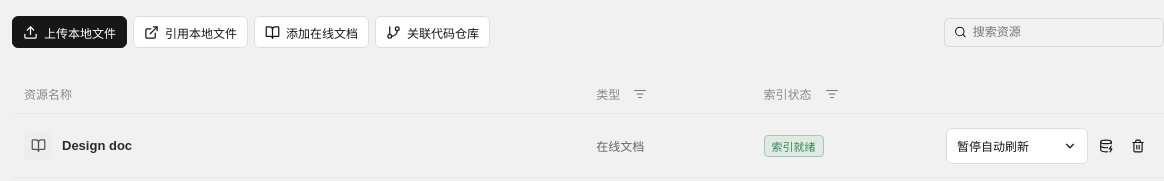
SpaceKnowledgePanel › publishes a localized toast when checking a resource fails
The image size is (1164, 181).
Click the button named "检查更新并索引 Design doc".
click(1106, 146)  # box [1092,132,1120,160]
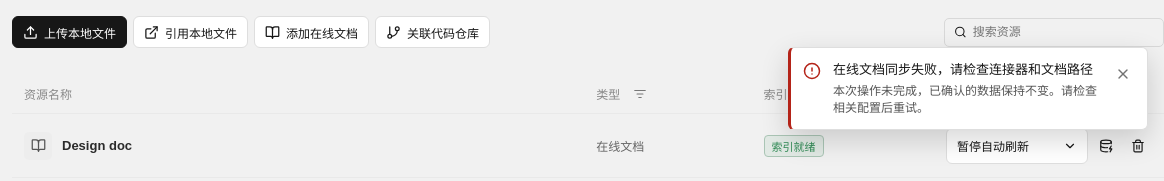
Result: the text "在线文档同步失败，请检查连接器和文档路径" is shown at [833,60,1099,80]
